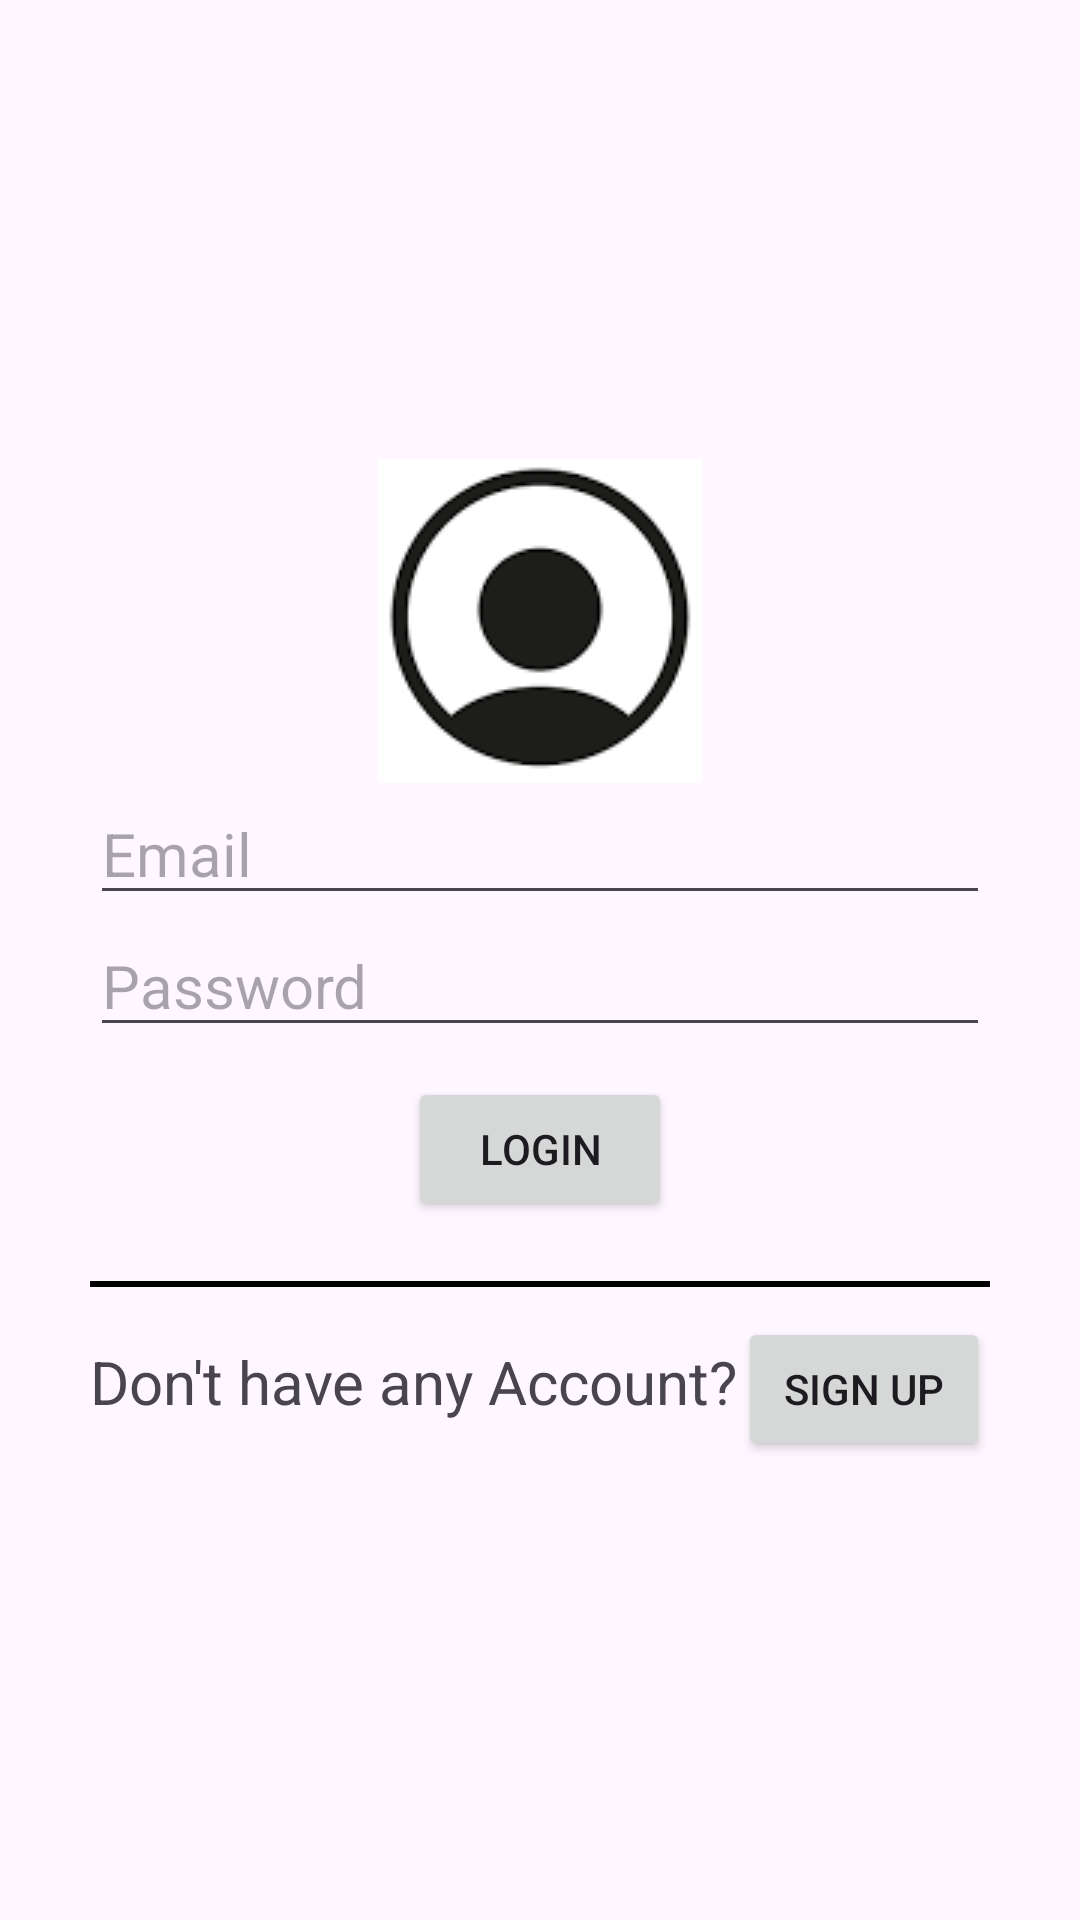

Named icons in this screenshot (1080x1920) and their centers, (x=x, y=y):
contact: (x=540, y=617)
